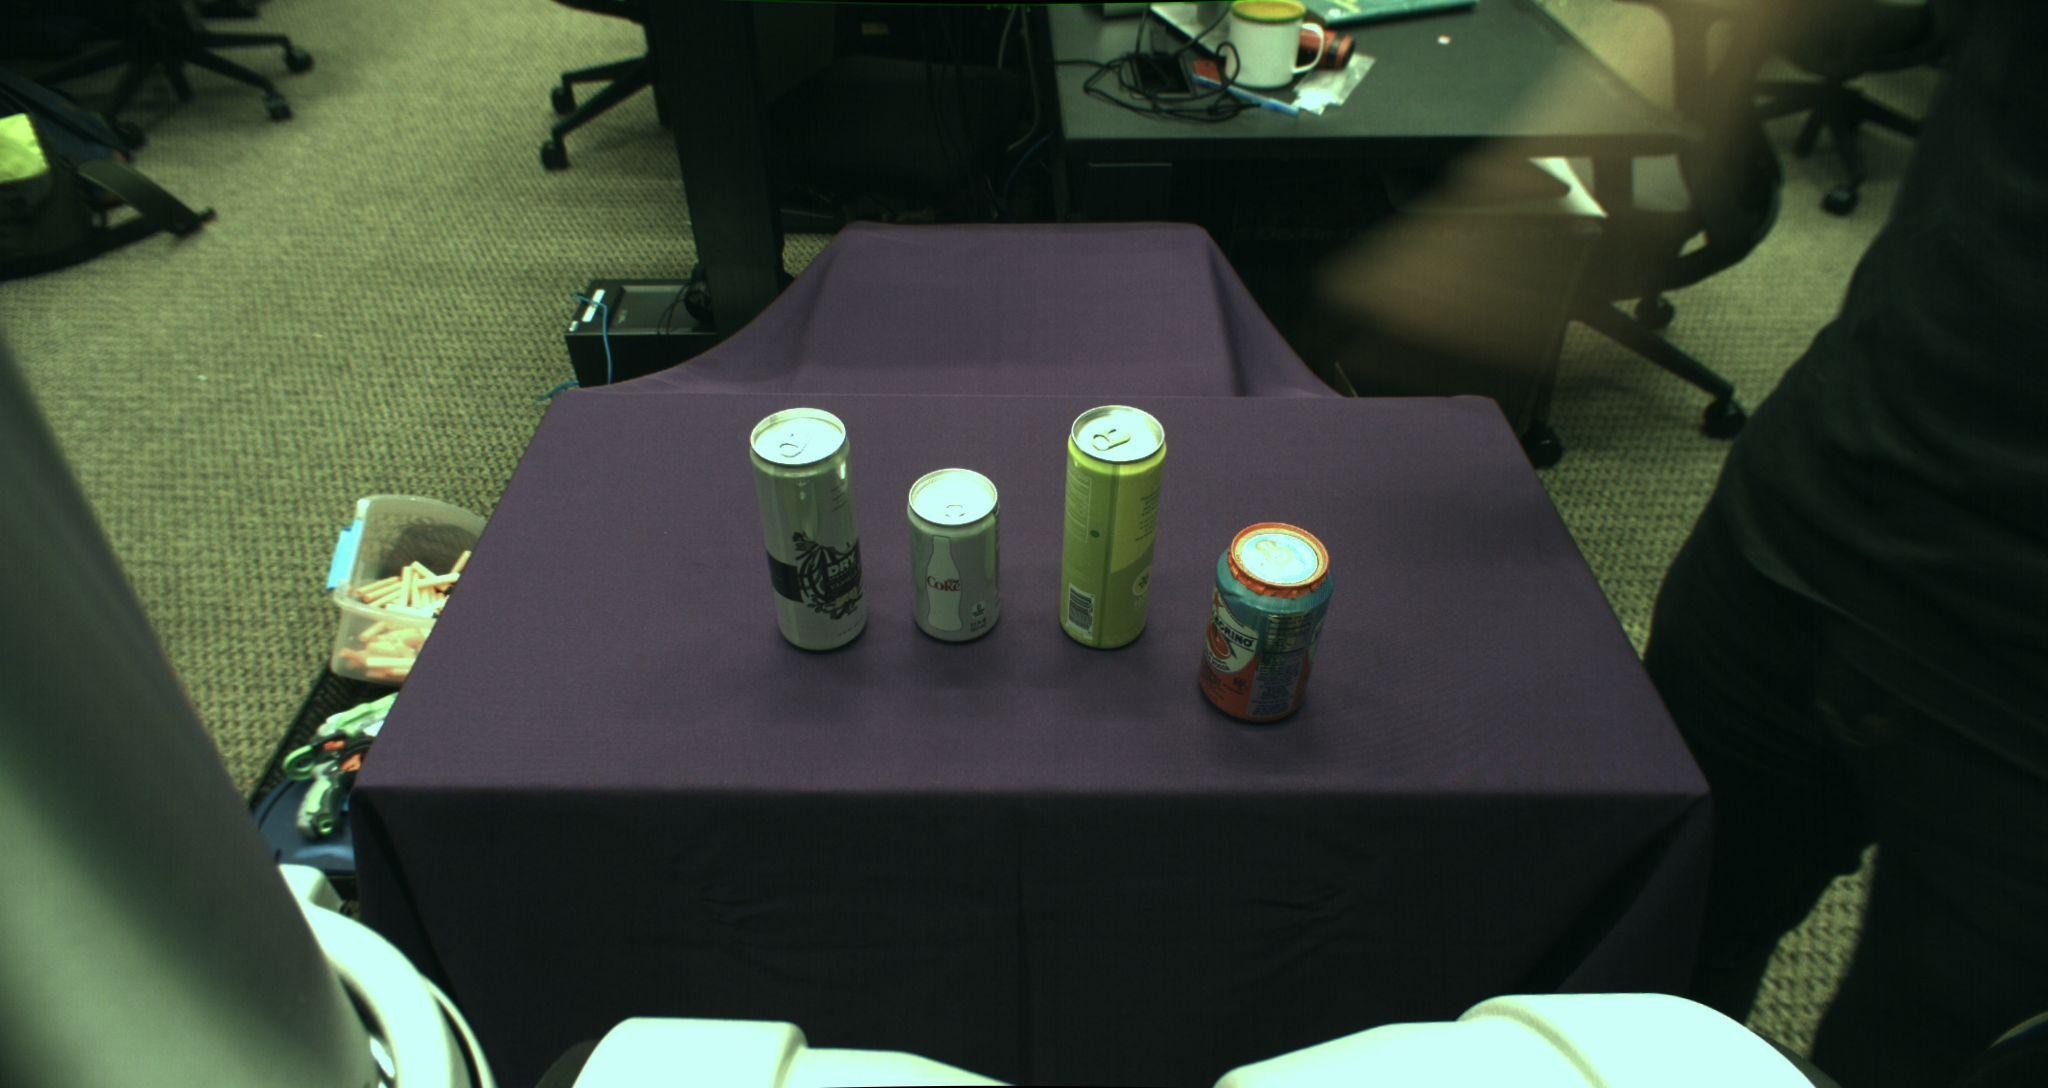can_diet_coke_small: (905, 467, 1004, 644)
can_dry_sparkling_vanilla_bean: (749, 406, 868, 652)
can_izze_fusions_lemon_lime: (1058, 402, 1168, 649)
can_sanpellegrino_blood_orange: (1200, 519, 1334, 724)
